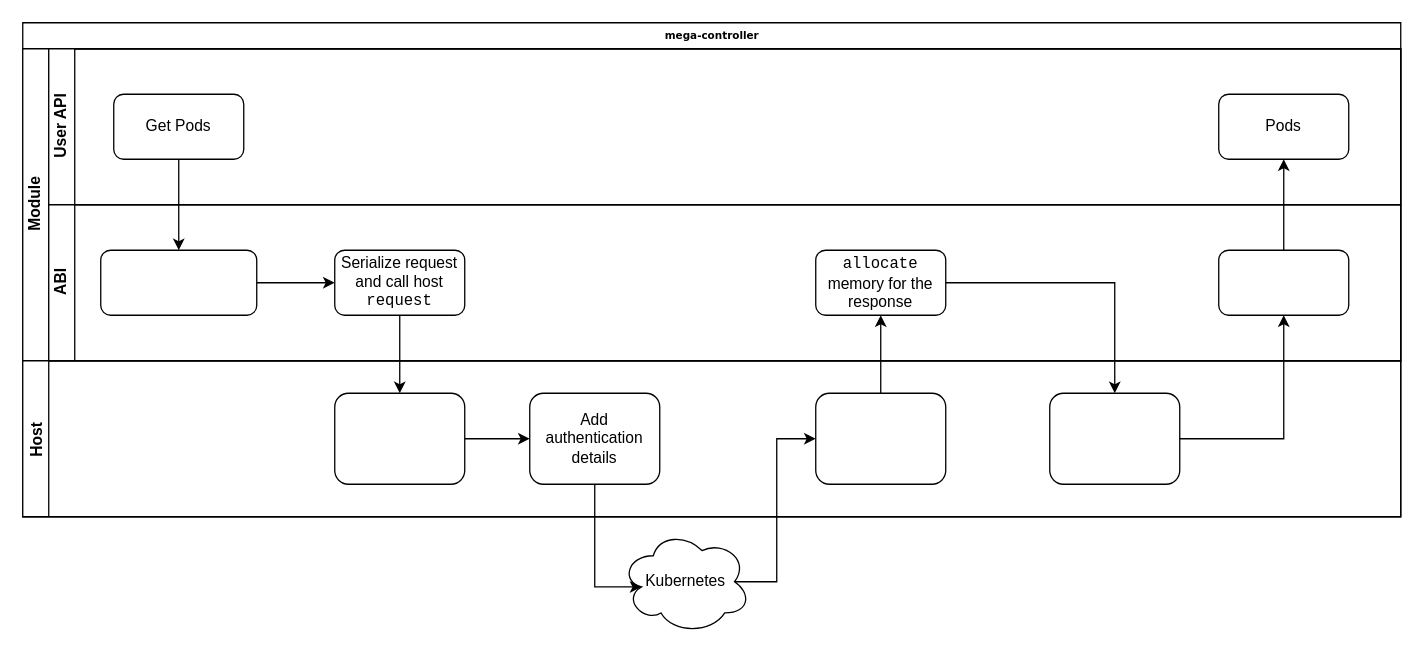
The diagram is 1424 pixels wide and 657 high, and some of its shapes have lost their labels. The shapes that lost their labels are listed below. From the top down, each one's centre as x and y in pixels, then its label:
At pixel 178 282: "execute_request".
At pixel 1283 282: "Deserialize response".
At pixel 399 438: "Deserialize request".
At pixel 880 438: "Serialize response".
At pixel 1114 438: "Write response in allocated memory region".
